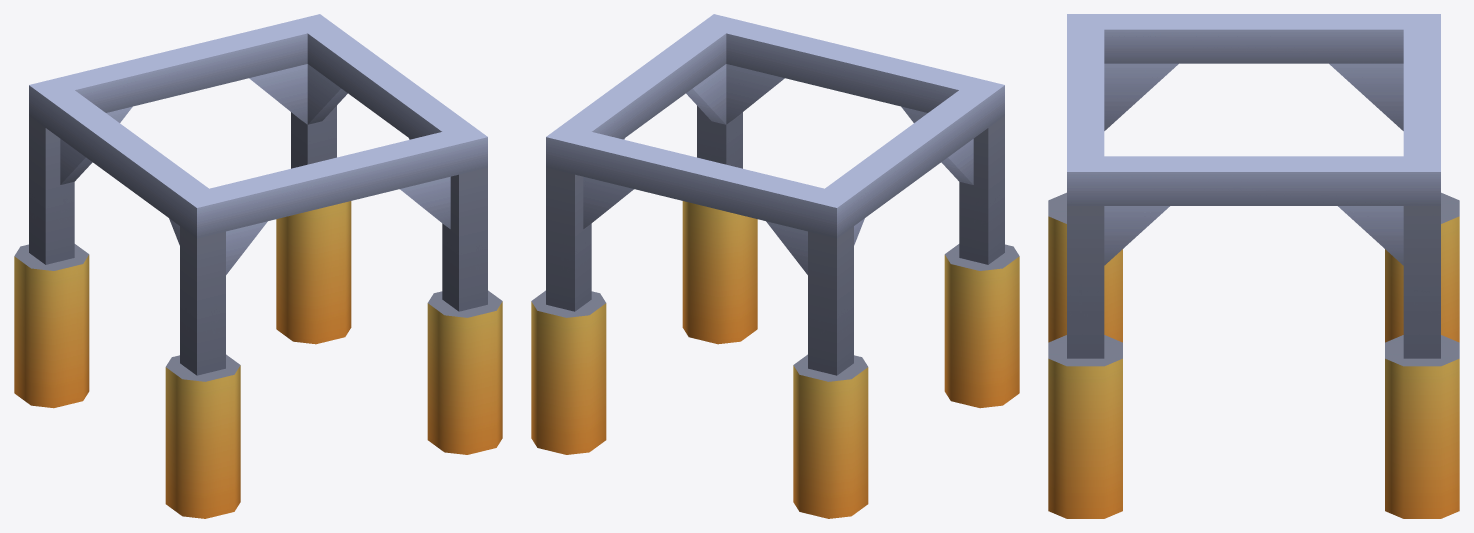
File: structure-barrier-high.glb
3 views of the same model, side by side, from view 1: azimuth 30°, elevation 25°; view 2: azimuth 150°, elevation 25°; view 3: azimuth 270°, elevation 25° (orthographic). The views are drawn at different scales.
Visible parts, largest first — view 1: Group (×14); view 2: Group (×14); view 3: Group (×11).
Boxes of the visible parts, left/top/right/bottom form: Group (×14): left=14, top=14, right=502, bottom=518; Group (×14): left=531, top=14, right=1019, bottom=518; Group (×11): left=1048, top=14, right=1459, bottom=518.
Size of the model in its own units: 1.1 by 1 by 1.1.
Materials: 1 (1 with a texture image).
